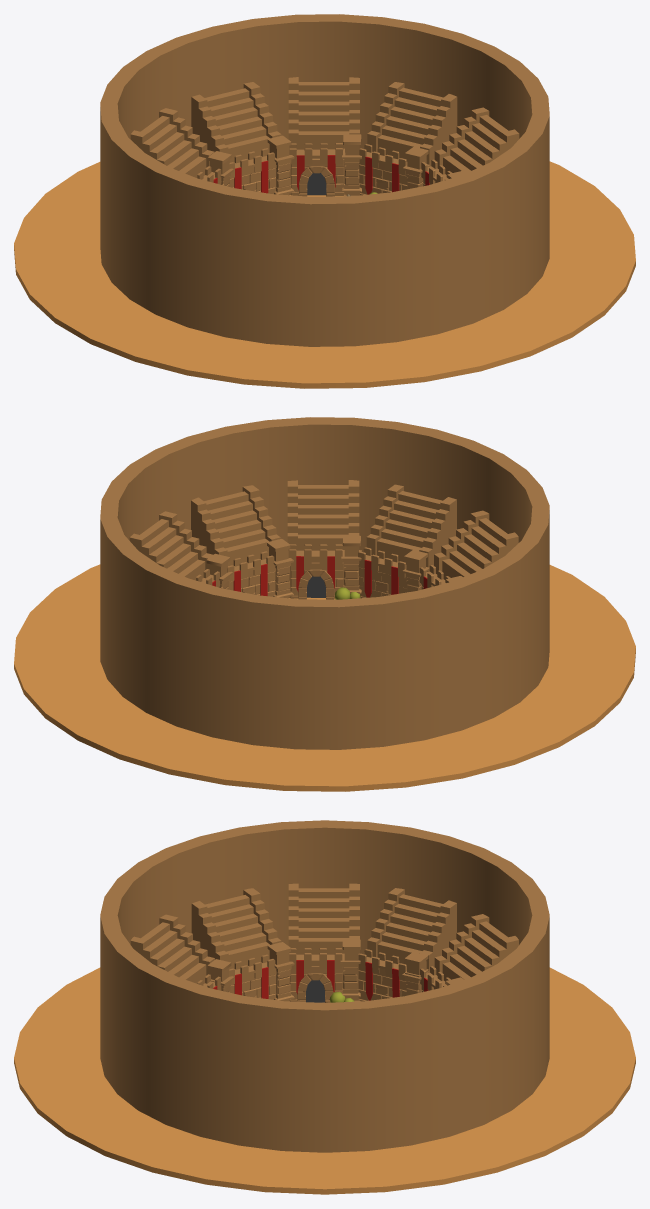
Rendered from arena.fbx.
3 views of the same model, one above another, from view 1: azimuth 30°, elevation 25°; view 2: azimuth 150°, elevation 25°; view 3: azimuth 270°, elevation 25° (orthographic).
Parts seen in each view (by area): view 1: ArenaFloor&Wall, Stairs, Door, Plane.003, Plane.002, Cube.012, Plane.008, Cube.011, Cube.003; view 2: ArenaFloor&Wall, Stairs, Door, Plane.006, Plane.005, Plane.010, Cube.015, Cube.005, Cube.016; view 3: ArenaFloor&Wall, Stairs, Door, Plane.004, Plane.001, Cube.020, Cube.002, Plane.012, Cube.019.
Boxes of the visible parts, x1,y1,x2,y2 form: ArenaFloor&Wall: (14, 14, 635, 388); Stairs: (130, 77, 519, 177); Door: (197, 134, 465, 196); Plane.003: (359, 162, 407, 195); Plane.002: (229, 162, 276, 193); Cube.012: (342, 148, 361, 192); Plane.008: (291, 158, 344, 195); Cube.011: (299, 166, 334, 196); Cube.003: (274, 155, 294, 194); ArenaFloor&Wall: (14, 417, 635, 791); Stairs: (129, 480, 518, 580); Door: (196, 535, 462, 598); Plane.006: (359, 566, 406, 598); Plane.005: (228, 565, 275, 596); Plane.010: (290, 562, 343, 598); Cube.015: (298, 569, 334, 599); Cube.005: (273, 558, 293, 597); Cube.016: (341, 550, 361, 593); ArenaFloor&Wall: (14, 820, 635, 1194); Stairs: (130, 883, 518, 983); Door: (197, 939, 463, 1001); Plane.004: (358, 964, 406, 1001); Plane.001: (229, 968, 276, 999); Cube.020: (340, 953, 360, 997); Cube.002: (274, 961, 294, 1000); Plane.012: (290, 966, 342, 1001); Cube.019: (297, 973, 333, 1002).
Size of the model in its own units: 4445 by 1168 by 4445.
